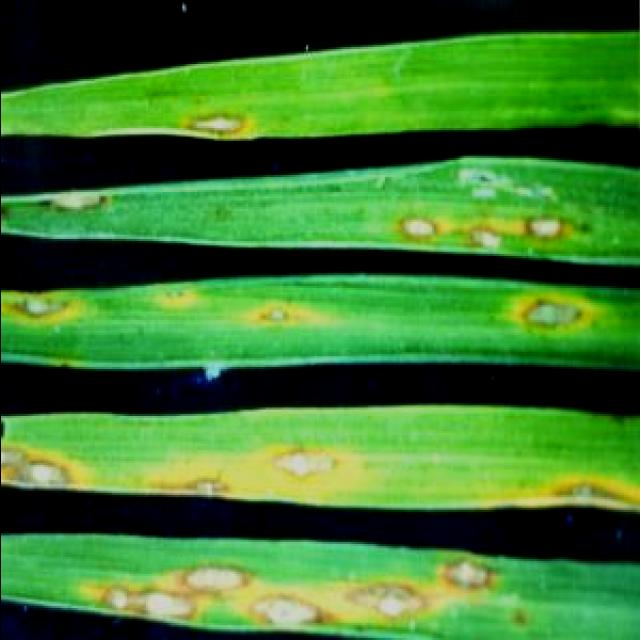Brown_Spot: (70, 554, 504, 625), (248, 435, 348, 491)
